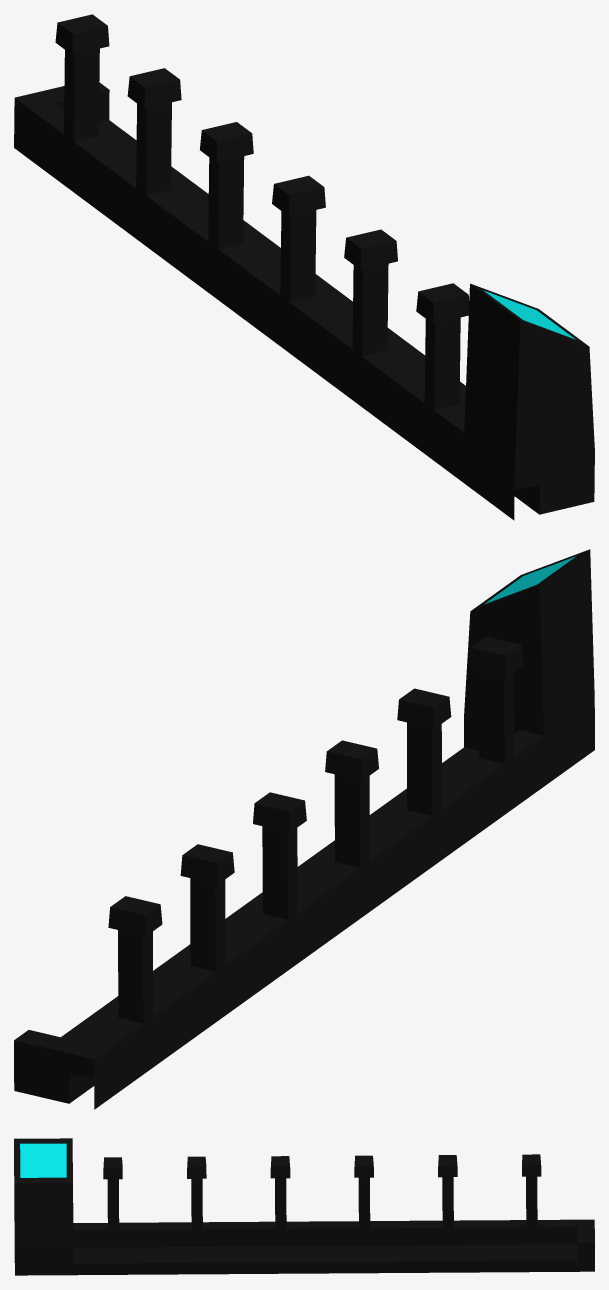
File: MOD_StationVelos.FBX
3 renders of one model, top to bottom at view 1: azimuth 30°, elevation 25°; view 2: azimuth 150°, elevation 25°; view 3: azimuth 270°, elevation 25°, orthographic. The views are drawn at different scales.
Parts seen in each view (by area): view 1: MOD_Parcavelo; view 2: MOD_Parcavelo; view 3: MOD_Parcavelo.
Part boxes in pixels (left/top/right/bottom): MOD_Parcavelo: left=14, top=14, right=594, bottom=520; MOD_Parcavelo: left=14, top=549, right=594, bottom=1109; MOD_Parcavelo: left=14, top=1138, right=594, bottom=1275.
Size of the model in its own units: 29.6 by 66.21 by 300.
